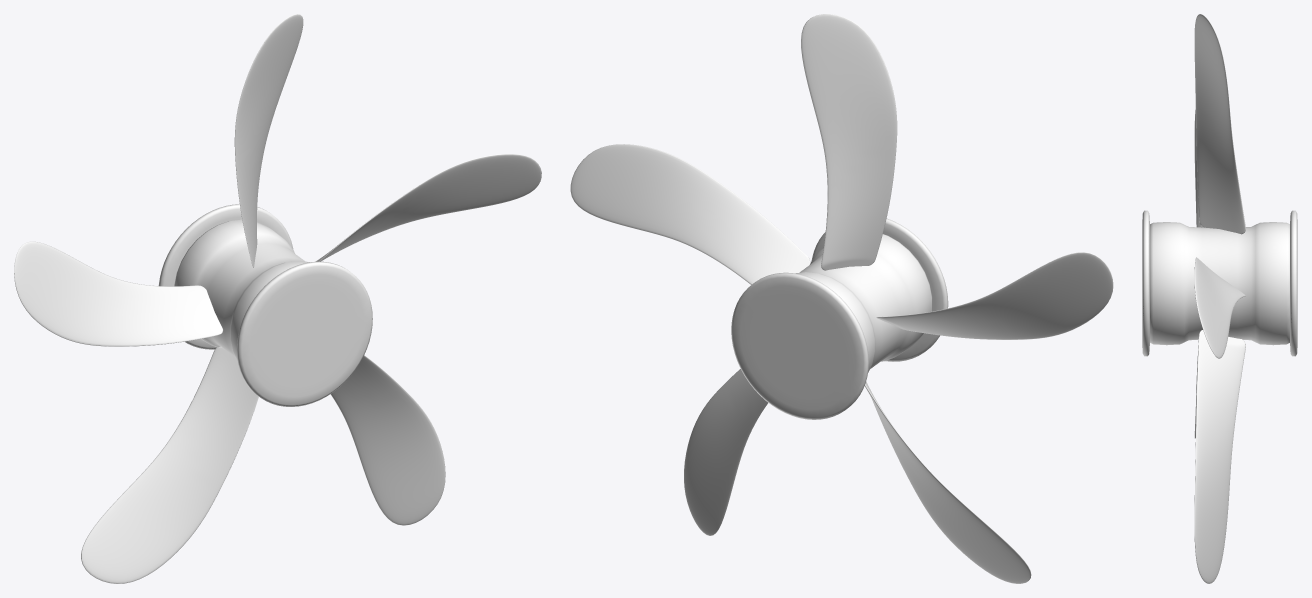
File: fan-.fbx
3 renders of one model, left to right at view 1: azimuth 30°, elevation 25°; view 2: azimuth 150°, elevation 25°; view 3: azimuth 270°, elevation 25°, orthographic. The views are drawn at different scales.
Visible parts, largest first — view 1: 10828_BoxFan_v2.001; view 2: 10828_BoxFan_v2.001; view 3: 10828_BoxFan_v2.001.
Part boxes in pixels (bbox=[...]): 10828_BoxFan_v2.001: bbox=[14, 14, 541, 583]; 10828_BoxFan_v2.001: bbox=[570, 14, 1113, 583]; 10828_BoxFan_v2.001: bbox=[1142, 14, 1297, 583].
Bounding box in the file's own units: 1001 × 975 × 269.
1 material, 1 textured.
